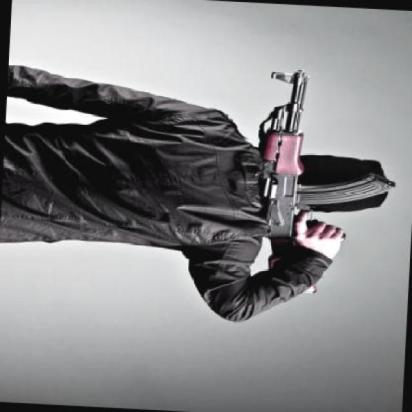Gun: (230, 61, 329, 296)
